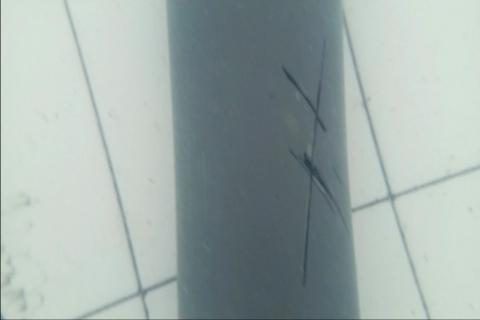keretakan: (280, 28, 348, 293)
